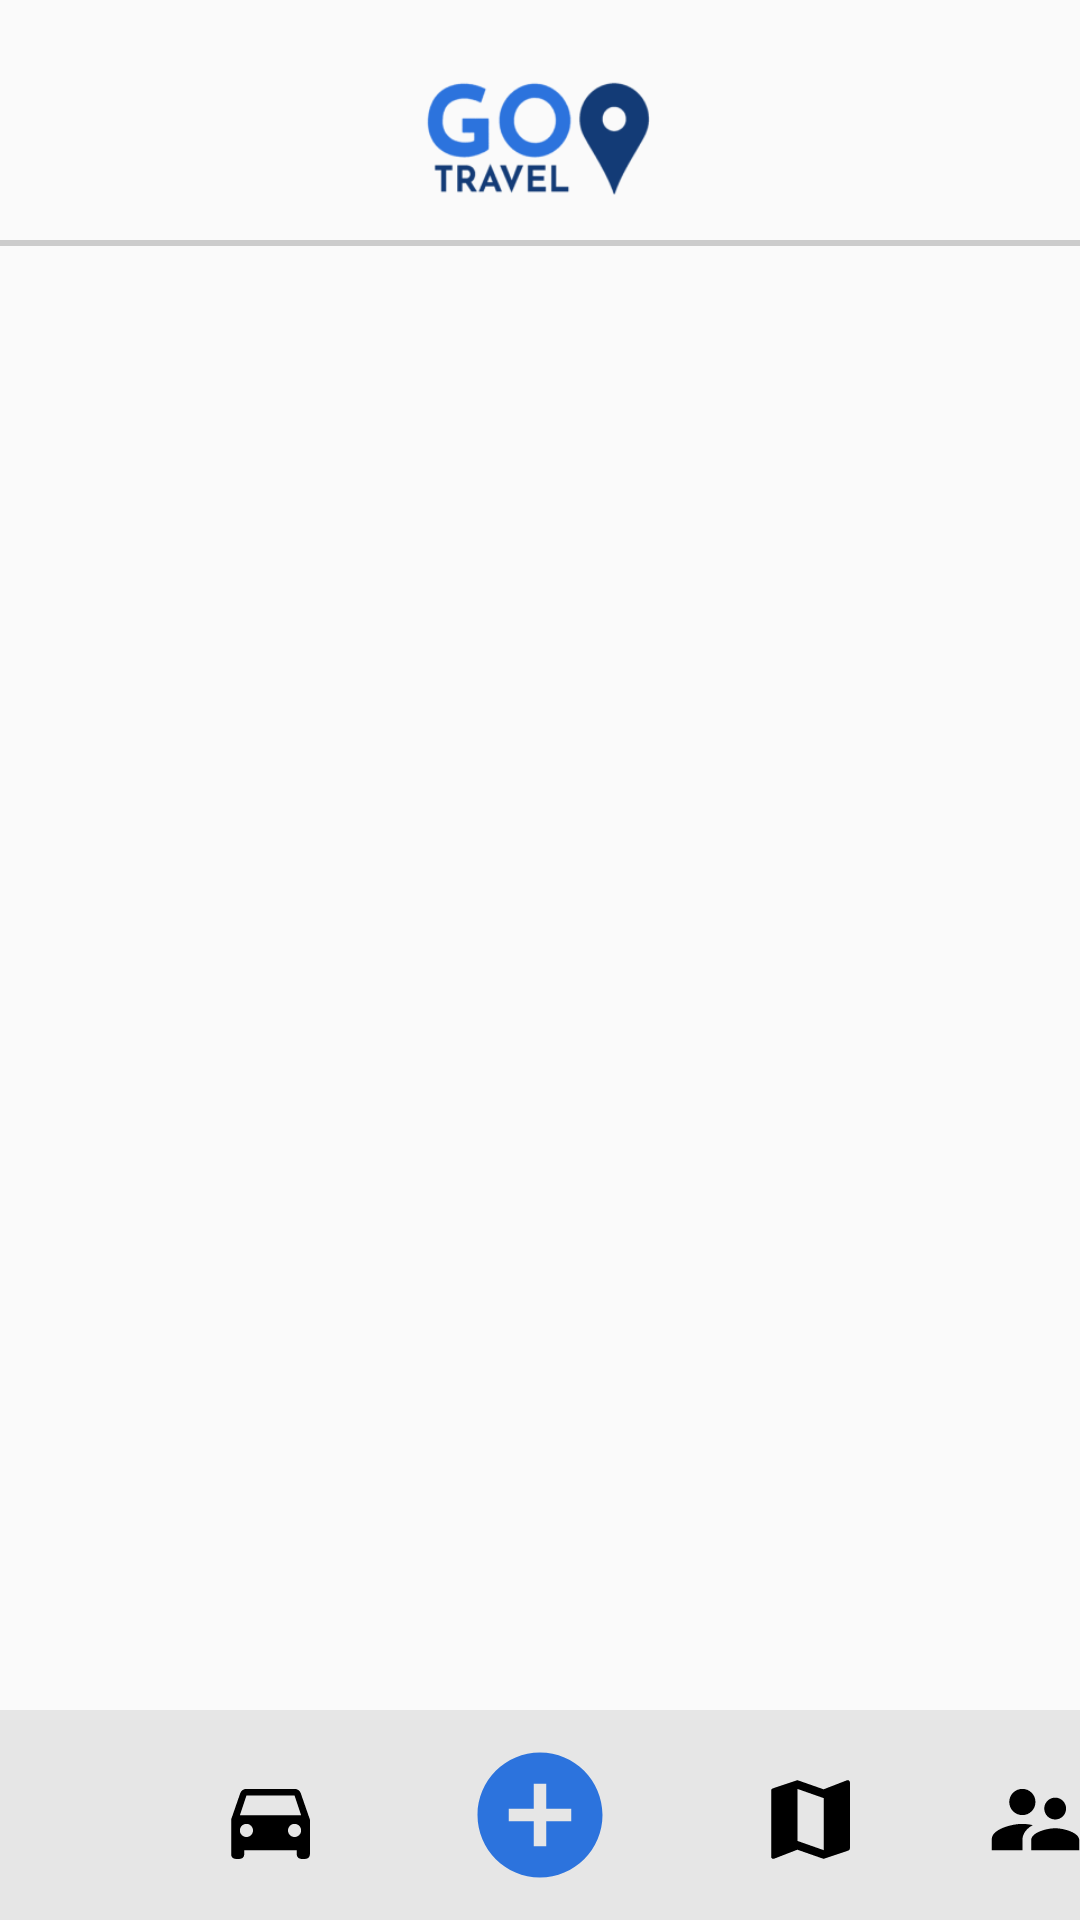

Named icons in this screenshot (1080*1920) and their bounding boxes, (x1, y1, x2, y2):
add circle: (477, 1752, 603, 1878)
directions car: (231, 1789, 310, 1859)
map: (771, 1780, 850, 1859)
supervisor account: (991, 1789, 1080, 1851)
